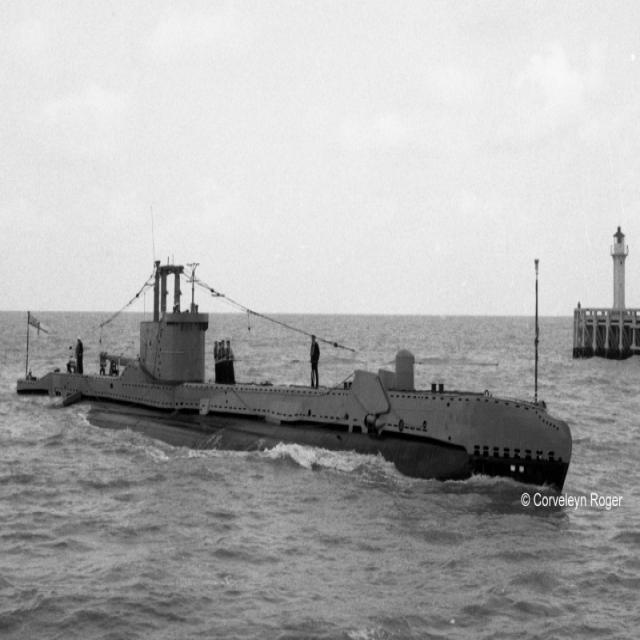submarine: (57, 318, 580, 500)
